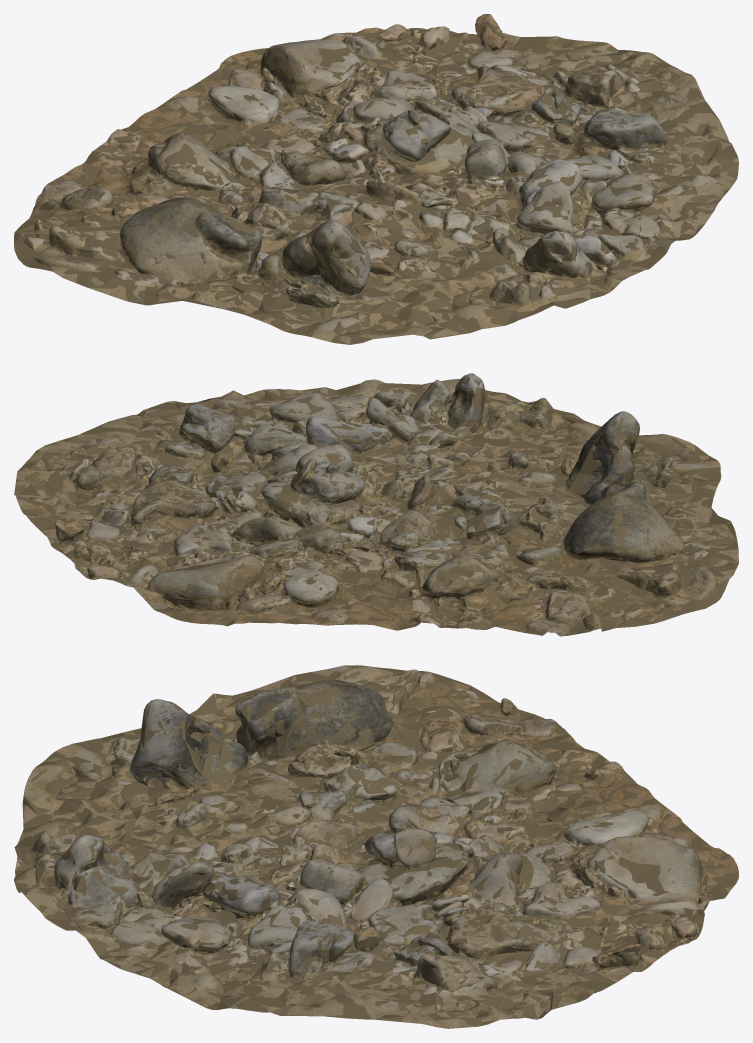
File: sand_rocks_small_01.glb
The picture shows the model from 3 angles, top to bottom: view 1: azimuth 30°, elevation 25°; view 2: azimuth 150°, elevation 25°; view 3: azimuth 270°, elevation 25°; orthographic projection. The views are drawn at different scales.
Visible parts, largest first — view 1: lod0, shadow; view 2: lod0, shadow; view 3: lod0, shadow.
Part boxes in pixels (x1,y1,x2,y2): lod0: (14, 14, 738, 344); shadow: (14, 14, 738, 344); lod0: (14, 373, 738, 636); shadow: (14, 373, 738, 636); lod0: (14, 665, 738, 1028); shadow: (14, 665, 737, 1028).
Size of what is drawn, in the model's own units: 4.63 by 0.5348 by 3.88.
1 material, 1 textured.
